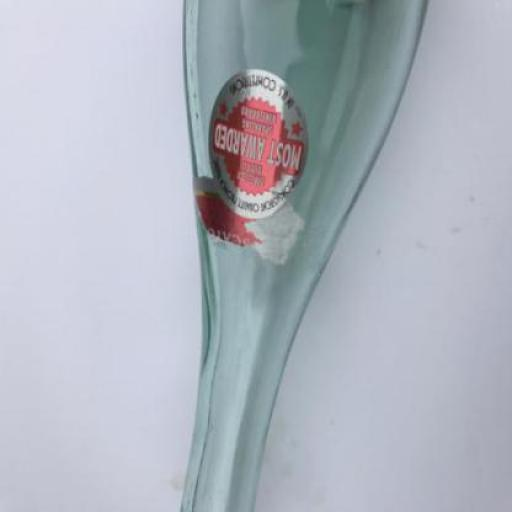glass: (178, 0, 429, 511)
